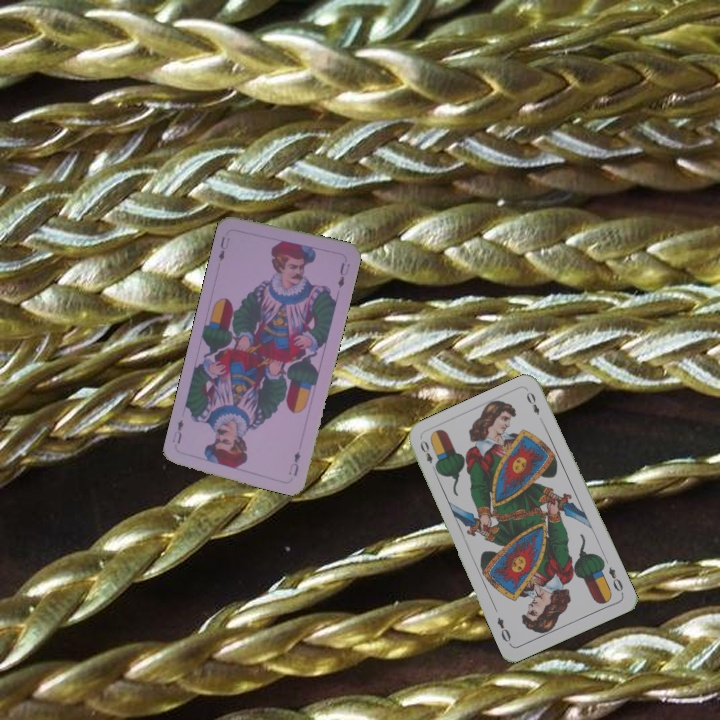EO: (416, 436, 439, 475), (604, 563, 626, 597)
EU: (214, 232, 233, 264), (284, 447, 303, 479)
